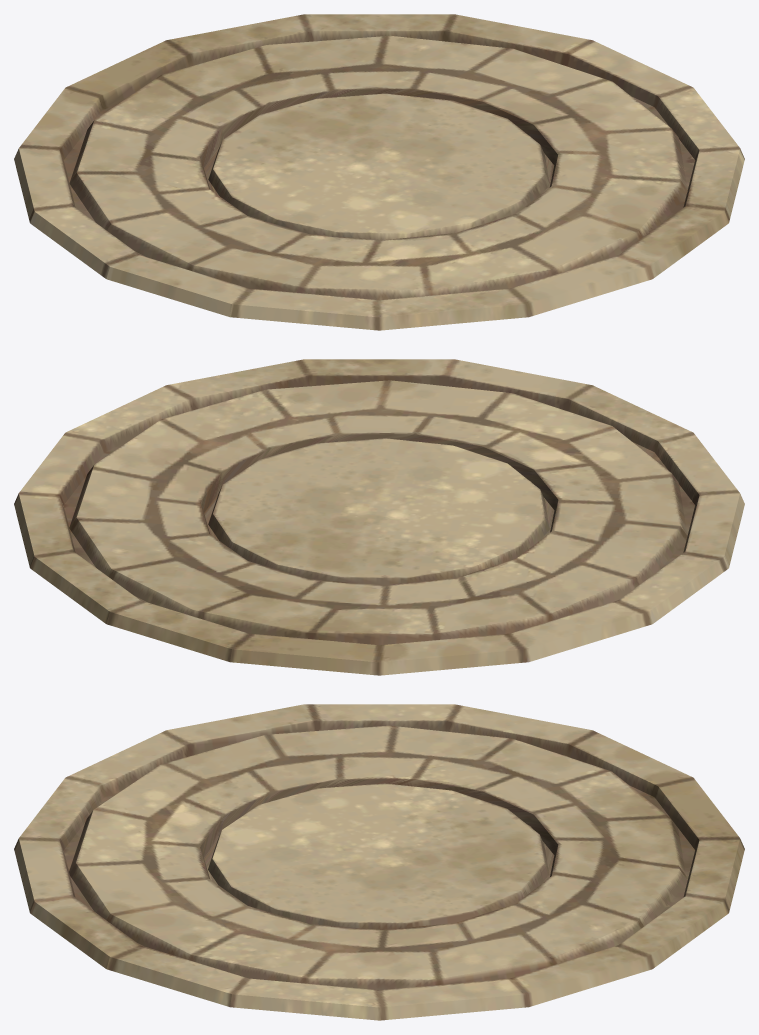
Rendered from Misc_StoneFloor.fbx.
The picture shows the model from 3 angles, top to bottom: view 1: azimuth 30°, elevation 25°; view 2: azimuth 150°, elevation 25°; view 3: azimuth 270°, elevation 25°; orthographic projection.
Parts seen in each view (by area): view 1: circlestonefloor; view 2: circlestonefloor; view 3: circlestonefloor.
Part boxes in pixels (left/top/right/bottom): circlestonefloor: left=14, top=14, right=744, bottom=330; circlestonefloor: left=14, top=359, right=744, bottom=675; circlestonefloor: left=14, top=704, right=744, bottom=1020.
Bounding box in the file's own units: 5.93 × 0.1034 × 5.97.
